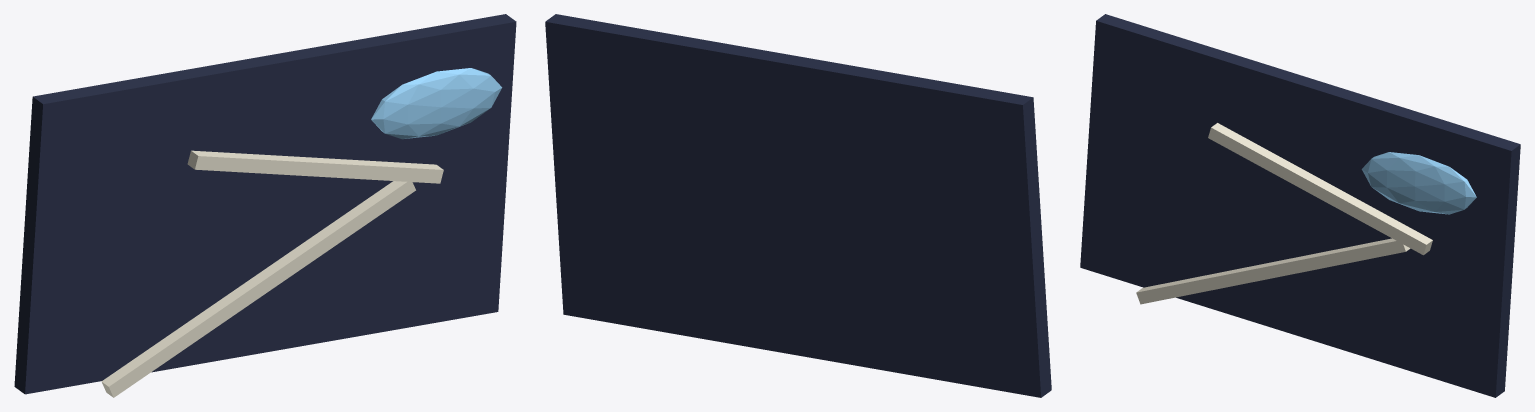
File: 03_weathering_wear_overlay_3.glb
3 views of the same model, side by side, from view 1: azimuth 30°, elevation 25°; view 2: azimuth 150°, elevation 25°; view 3: azimuth 330°, elevation 25° (orthographic). The views are drawn at different scales.
Parts seen in each view (by area): view 1: wear_plate, scratch_a, rust_or_moss_spot, scratch_b; view 2: wear_plate; view 3: wear_plate, rust_or_moss_spot, scratch_b, scratch_a.
Part boxes in pixels (x1,y1,x2,y2): wear_plate: (14, 14, 516, 394); scratch_a: (101, 181, 415, 397); rust_or_moss_spot: (371, 68, 502, 139); scratch_b: (187, 150, 443, 183); wear_plate: (545, 14, 1051, 397); wear_plate: (1080, 14, 1520, 397); rust_or_moss_spot: (1361, 152, 1476, 214); scratch_b: (1208, 123, 1432, 255); scratch_a: (1136, 238, 1410, 304).
Size of the model in its own units: 1.35 by 0.8346 by 0.134.
